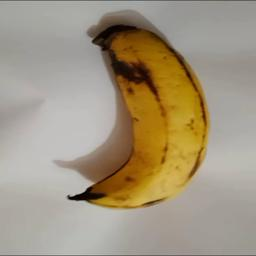Banana Semifresh: (71, 24, 214, 212)
